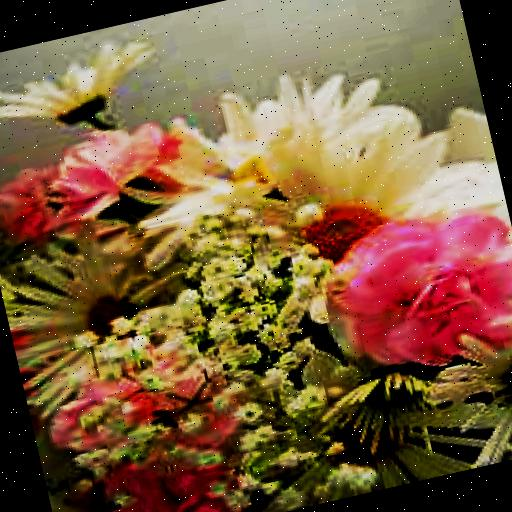daisy: (236, 114, 446, 294), (296, 360, 462, 485), (0, 39, 153, 130), (442, 344, 512, 470)
